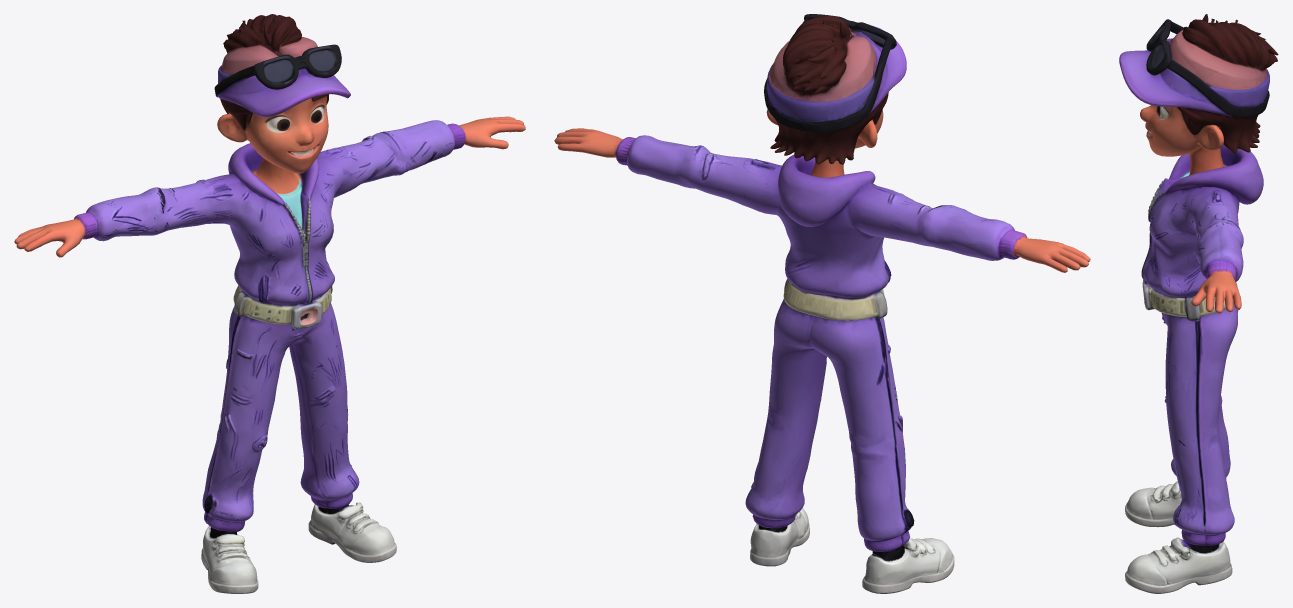
The model's file is yard_sale_yolanda.glb.
3 renders of one model, left to right at view 1: azimuth 30°, elevation 25°; view 2: azimuth 150°, elevation 25°; view 3: azimuth 270°, elevation 25°, orthographic. The views are drawn at different scales.
Parts seen in each view (by area): view 1: yard_sale_yolanda; view 2: yard_sale_yolanda; view 3: yard_sale_yolanda.
Boxes of the visible parts, bbox=[...] form: yard_sale_yolanda: bbox=[14, 14, 525, 593]; yard_sale_yolanda: bbox=[554, 14, 1090, 593]; yard_sale_yolanda: bbox=[1119, 14, 1278, 593].
Size of the model in its own units: 1.75 by 1.75 by 0.4742.
Materials: 1 (1 with a texture image).
